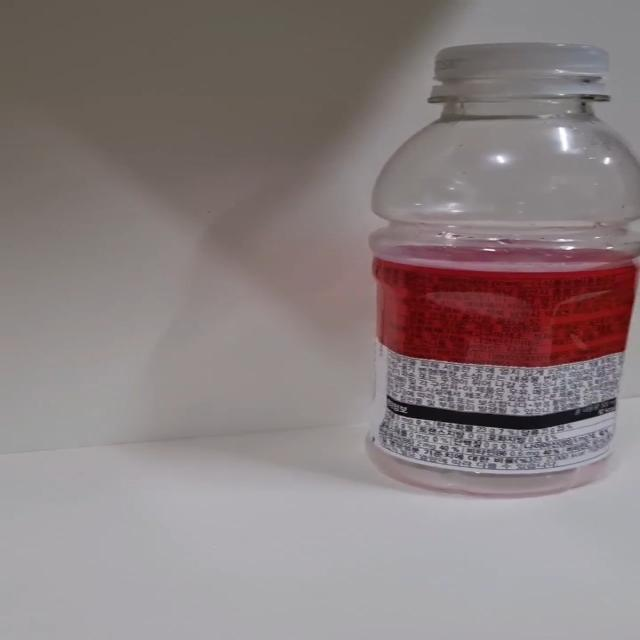Plastic: (364, 43, 640, 500)
